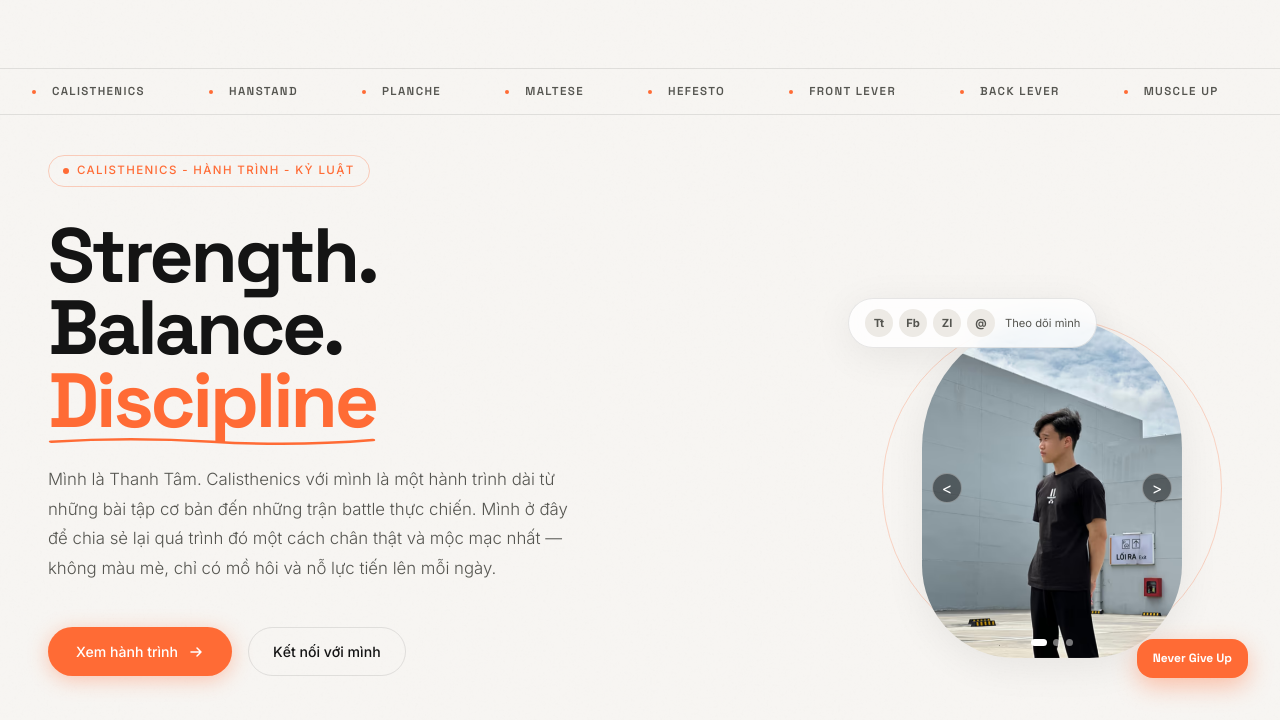
Test: HeroSection › cho phep chuyen avatar bang nut next
The width and height of the screenshot is (1280, 720).
Click the button named "ảnh tiếp theo": (1157, 488) [1142, 473, 1172, 503]
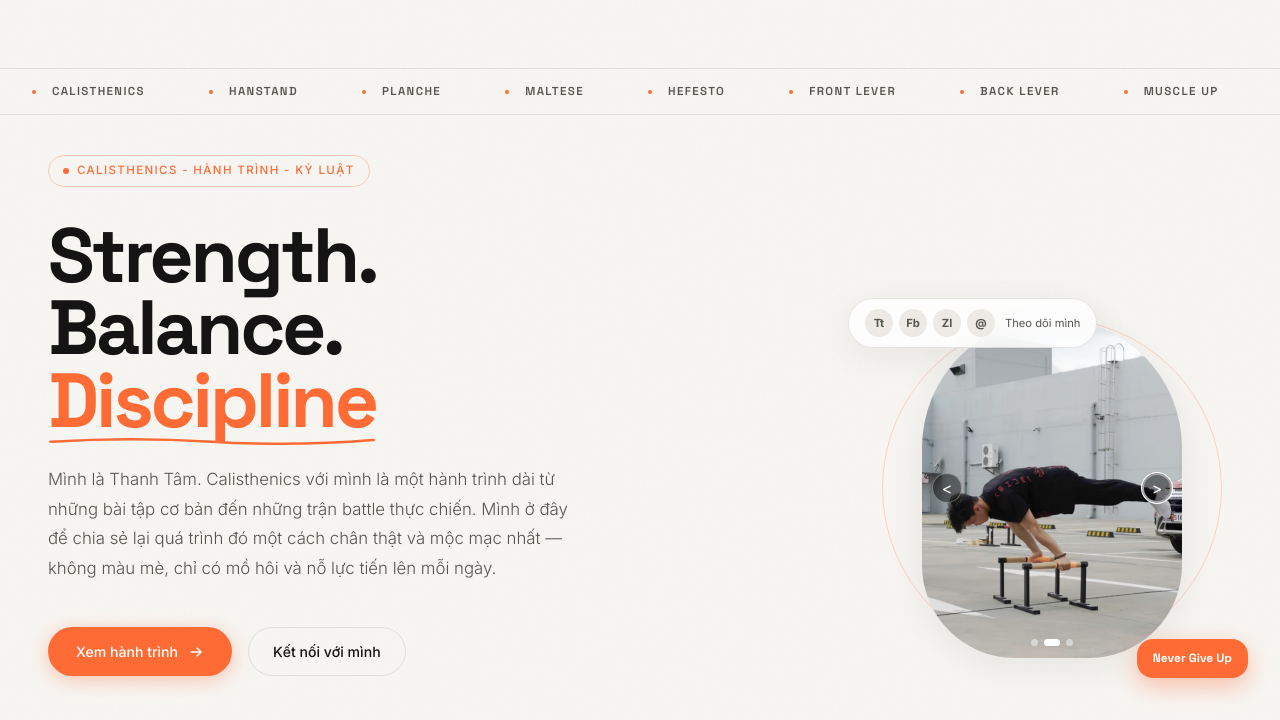
Check: the picture named "nguyen thanh tam luyen ky nang calisthenics voi dong tac can bang" is shown, box [922, 318, 1182, 658]
